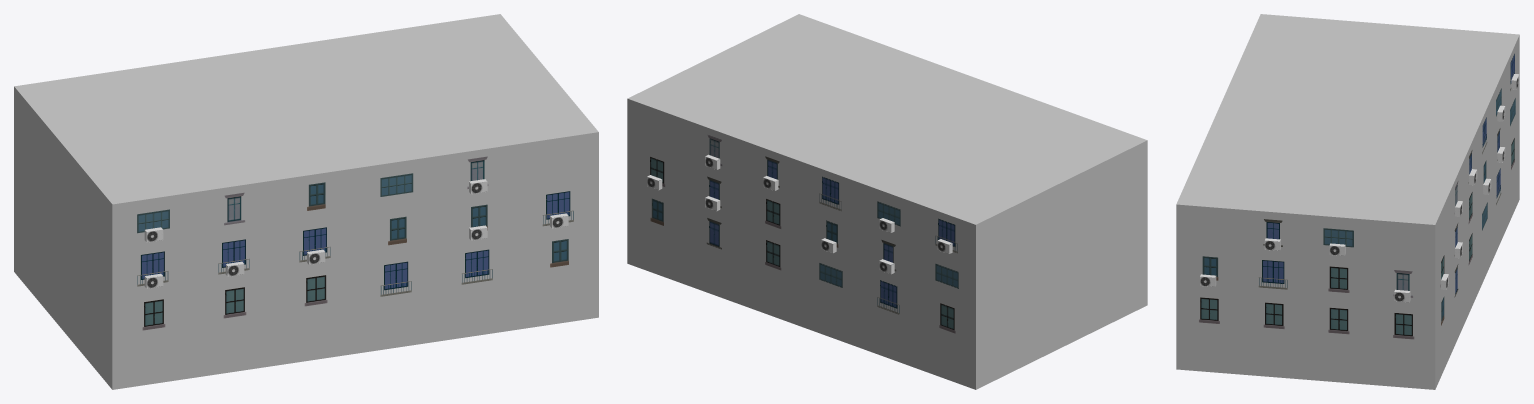
Rendered from 111StationFix14.fbx.
3 renders of one model, left to right at view 1: azimuth 30°, elevation 25°; view 2: azimuth 150°, elevation 25°; view 3: azimuth 270°, elevation 25°, orthographic. The views are drawn at different scales.
Visible parts, largest first — view 1: Cube.590; view 2: Cube.590; view 3: Cube.590.
Boxes of the visible parts, left/top/right/bottom form: Cube.590: left=14, top=14, right=598, bottom=389; Cube.590: left=627, top=14, right=1147, bottom=389; Cube.590: left=1176, top=14, right=1519, bottom=389.
Bounding box in the file's own units: 25.18 × 9.17 × 17.3.
